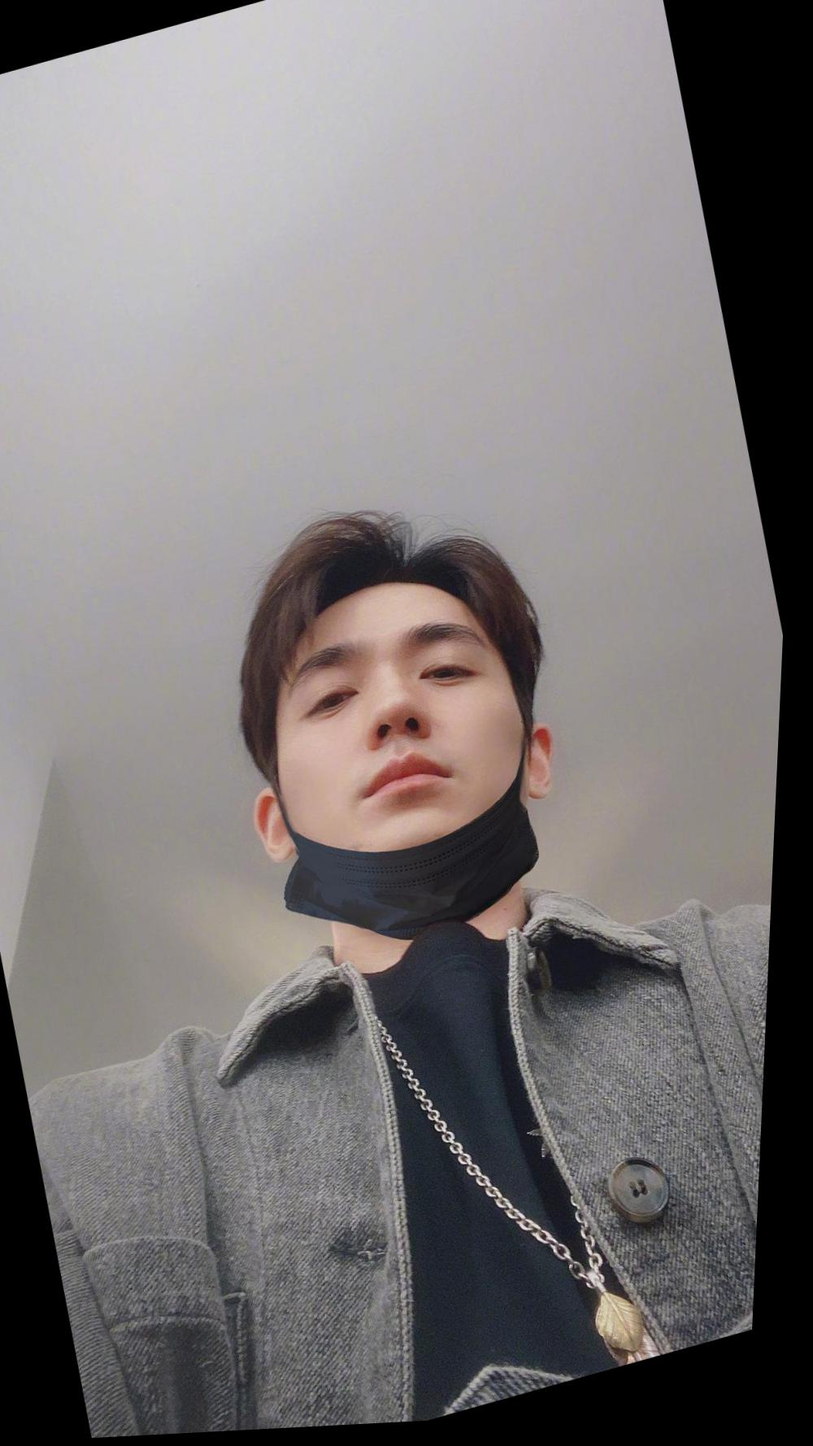WRONG: (255, 573, 556, 921)
